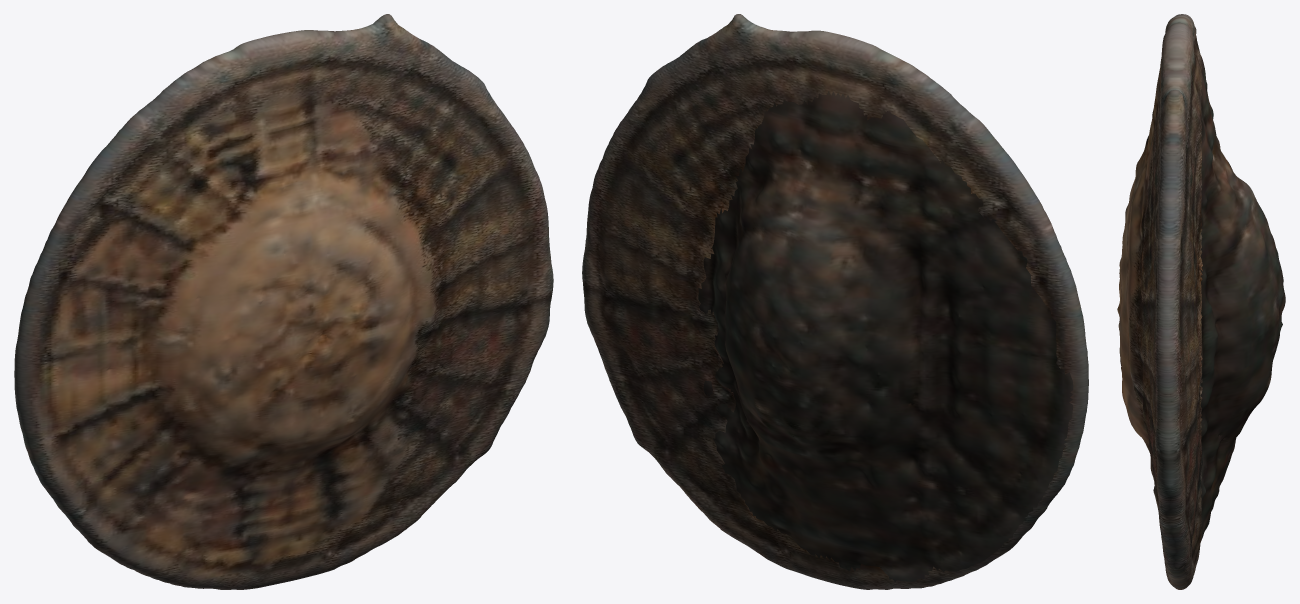
File: kfl-2133.glb
The picture shows the model from 3 angles, left to right: view 1: azimuth 30°, elevation 25°; view 2: azimuth 150°, elevation 25°; view 3: azimuth 270°, elevation 25°; orthographic projection. The views are drawn at different scales.
Parts seen in each view (by area): view 1: geometry_0; view 2: geometry_0; view 3: geometry_0.
Boxes of the visible parts, x1,y1,x2,y2 form: geometry_0: [14, 14, 553, 589]; geometry_0: [582, 14, 1088, 589]; geometry_0: [1117, 14, 1285, 589].
Bounding box in the file's own units: 0.9898 × 0.9936 × 0.2923.
Materials: 1 (1 with a texture image).
